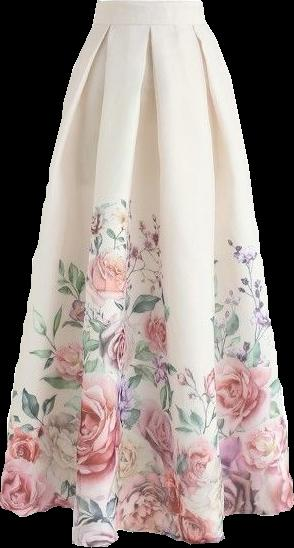Hemline: (0, 500, 293, 547)
Waistline: (89, 20, 208, 29), (95, 0, 203, 3)
